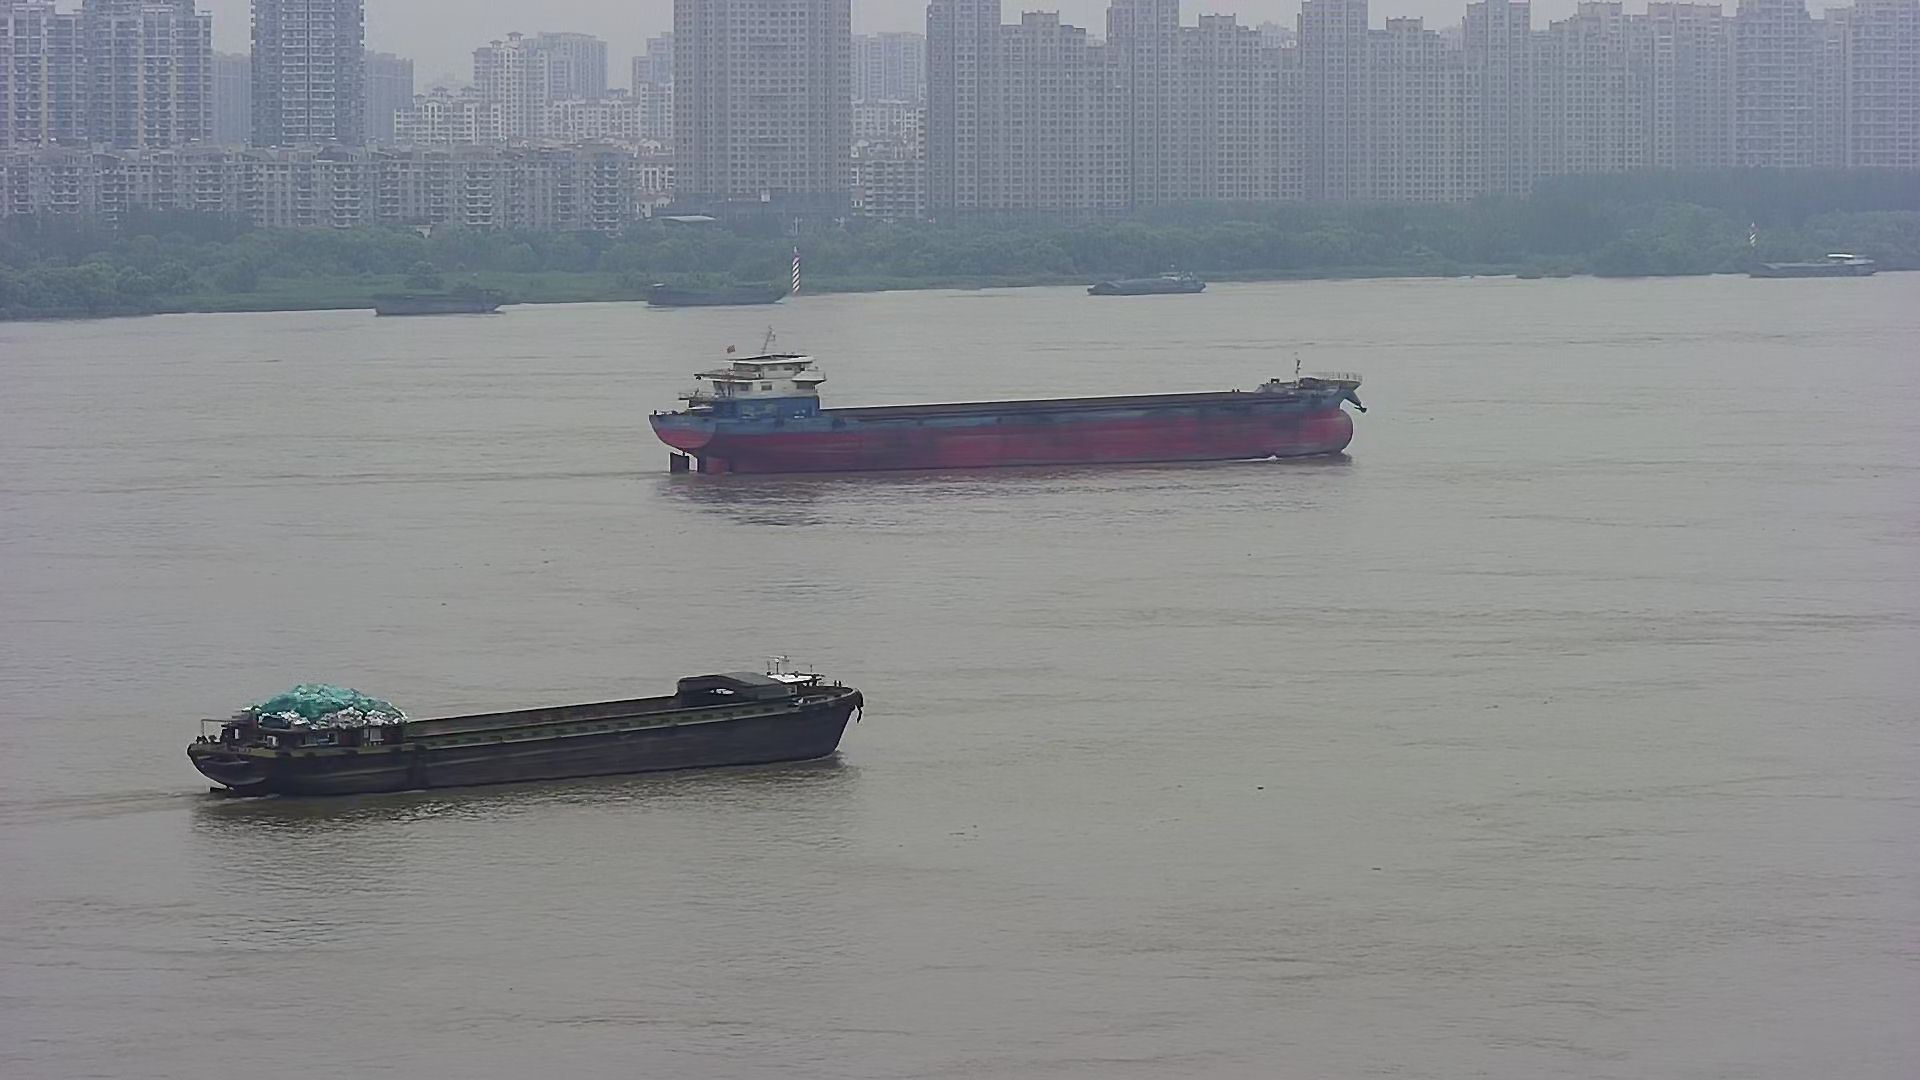ship: (157, 636, 903, 811), (640, 326, 1379, 501), (353, 269, 521, 328), (626, 262, 803, 313), (1746, 241, 1882, 290), (1077, 253, 1218, 298)
